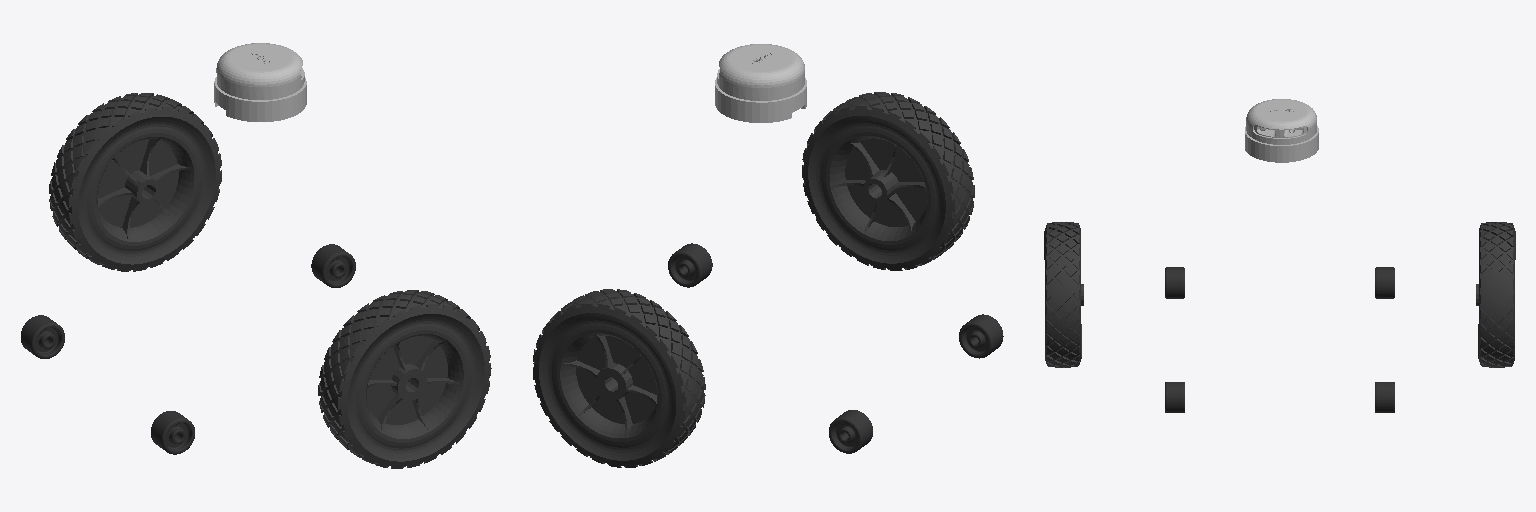
robot.urdf — AMR:
<?xml version="1.0"?>
<robot xmlns:xacro="http://www.ros.org/wiki/xacro" name="AMR">


  <link name="base_footprint">
  </link>

  <joint name="chassis_joint" type="fixed">
    <parent link="base_footprint"/>
    <child link="base_link"/>
    <origin xyz="0 0 0" rpy="0 0 0" />
  </joint>

  <link name="base_link">
    <visual>
      <origin xyz="0 0 0" rpy="0 0 3.1459" />
      <geometry>
        <mesh filename="package://twowheelbot/meshes/base_link.STL" />
      </geometry>
      <material name="">
        <color rgba="0.792156862745098 0.819607843137255 0.933333333333333 1" />
      </material>
    </visual>
    <collision>
      <origin xyz="0 0 0" rpy="0 0 3.1459" />
      <geometry>
        <mesh filename="package://twowheelbot/meshes/base_link.STL" />
      </geometry>
    </collision>
    <inertial>
      <origin xyz="0 0 0" rpy="0 0 3.1459" />
      <mass value="5.65793860989747" />
      <inertia ixx="0.0209088158258865" ixy="-1.21570941586779E-06" ixz="-4.74576464436689E-07" iyy="0.0337922520357315" iyz="-6.19936087950491E-09" izz="0.0530796720169266" />
    </inertial>
  </link>

  <!-- Wheels -->

  <link name="left_wheel">
    <visual>
      <origin xyz="0 0 0" rpy="0 0 0" />
      <geometry>
        <mesh filename="package://twowheelbot/meshes/left_wheel.STL" />
      </geometry>
      <material name="">
        <color rgba="0.294117647058824 0.294117647058824 0.294117647058824 1" />
      </material>
    </visual>
    <collision>
      <origin xyz="0 0 0" rpy="0 0 0" />
      <geometry>
        <mesh filename="package://twowheelbot/meshes/left_wheel.STL" />
      </geometry>
    </collision>
    <inertial>
      <origin xyz="0 0 0" rpy="0 0 0" />
      <mass value="0.408827478747937" />
      <inertia ixx="0.000714801628089416" ixy="1.37054703675277E-13" ixz="-6.32708302254498E-14" iyy="0.000714801629073733" iyz="-1.37617566530445E-13" izz="0.00136123756937642" />
    </inertial>
  </link>

  <joint name="left_wheel_joint" type="continuous">
    <origin xyz="0 0.234 0.0304999999999984" rpy="-1.5729 0 0" />
    <parent link="base_link" />
    <child link="left_wheel" />
    <axis xyz="0 0 1" />
  </joint>
  
  <link name="right_wheel">
    <visual>
      <origin xyz="0 0 0" rpy="0 0 0" />
      <geometry>
        <mesh filename="package://twowheelbot/meshes/right_wheel.STL" />
      </geometry>
      <material name="">
        <color rgba="0.294117647058824 0.294117647058824 0.294117647058824 1" />
      </material>
    </visual>
    <collision>
      <origin xyz="0 0 0"  rpy="0 0 0" />
      <geometry>
        <mesh filename="package://twowheelbot/meshes/right_wheel.STL" />
      </geometry>
    </collision>
    <inertial>
      <origin xyz="0 0 0" rpy="0 0 0" />
      <mass value="0.408827478747941" />
      <inertia ixx="0.000714801628692349" ixy="-4.98728780255981E-13" ixz="-8.55481626564712E-14" iyy="0.000714801628470818" iyz="1.25253999026371E-13" izz="0.00136123756937644" />
    </inertial>
  </link>

  <joint name="right_wheel_joint" type="continuous">
    <origin xyz="0 -0.234 0.0304999999999984" rpy="1.5729 0 0" />
    <parent link="base_link" />
    <child link="right_wheel" />
    <axis xyz="0 0 -1" />
  </joint>

  <!-- Caster Wheels -->

  <link name="rf_caster">
    <visual>
      <origin xyz="0 0 0" rpy="0 0 0" />
      <geometry>
        <mesh filename="package://twowheelbot/meshes/rf_caster.STL" />
      </geometry>
      <material name="">
        <color rgba="0.250980392156863 0.250980392156863 0.250980392156863 1" />
      </material>
    </visual>
    <collision>
      <origin xyz="0 0 0" rpy="0 0 0" />
      <geometry>
        <mesh filename="package://twowheelbot/meshes/rf_caster.STL" />
      </geometry>
    </collision>
    <inertial>
      <origin xyz="0 0 0" rpy="0 0 0" />
      <mass value="0.0131302037781976" />
      <inertia ixx="1.31770325266958E-06" ixy="-5.29431199926978E-23" ixz="2.24993126614424E-22" iyy="1.31770325266958E-06" iyz="-1.18236702448809E-22" izz="1.89555098822308E-06" />
    </inertial>
  </link>

  <joint name="rf_caster_joint" type="fixed">
    <origin xyz="0.121999999999999 -0.107 -0.028" rpy="1.5729 0 0" />
    <parent link="base_link" />
    <child link="rf_caster" />
    <axis xyz="0 0 -1" />
  </joint>

  <link name="lf_caster">
    <visual>
      <origin xyz="0 0 0" rpy="0 0 0" />
      <geometry>
        <mesh filename="package://twowheelbot/meshes/lf_caster.STL" />
      </geometry>
      <material name="">
        <color rgba="0.250980392156863 0.250980392156863 0.250980392156863 1" />
      </material>
    </visual>
    <collision>
      <origin xyz="0 0 0" rpy="0 0 0" />
      <geometry>
        <mesh filename="package://twowheelbot/meshes/lf_caster.STL" />
      </geometry>
    </collision>
    <inertial>
      <origin xyz="0 0 0" rpy="0 0 0" />
      <mass value="0.0131302037781976" />
      <inertia ixx="1.31770325266958E-06" ixy="0" ixz="1.52201232709757E-22" iyy="1.31770325266958E-06" iyz="2.05476734334866E-21" izz="1.89555098822308E-06" />
    </inertial>
  </link>

  <joint name="lf_caster_joint" type="fixed">
    <origin xyz="0.121999999999999 0.107 -0.028" rpy="-1.5729 0 0" />
    <parent link="base_link" />
    <child link="lf_caster" />
    <axis xyz="0 0 1" />
  </joint>

  <link name="rr_caster">
    <visual>
      <origin xyz="0 0 0" rpy="0 0 0" />
      <geometry>
        <mesh filename="package://twowheelbot/meshes/rr_caster.STL" />
      </geometry>
      <material name="">
        <color rgba="0.250980392156863 0.250980392156863 0.250980392156863 1" />
      </material>
    </visual>
    <collision>
      <origin xyz="0 0 0" rpy="0 0 0" />
      <geometry>
        <mesh filename="package://twowheelbot/meshes/rr_caster.STL" />
      </geometry>
    </collision>
    <inertial>
      <origin xyz="0 0 0" rpy="0 0 0" />
      <mass value="0.0131302037781976" />
      <inertia ixx="1.31770325266958E-06" ixy="-9.24232433334024E-37" ixz="-5.29395592033938E-23" iyy="1.31770325266958E-06" iyz="2.04611747395592E-21" izz="1.89555098822309E-06" />
    </inertial>
  </link>

  <joint name="rr_caster_joint" type="fixed">
    <origin xyz="-0.154 -0.107 -0.028" rpy="1.5729 0 0" />
    <parent link="base_link" />
    <child link="rr_caster" />
    <axis xyz="0 0 -1" />
  </joint>

  <link name="lr_caster">
    <visual>
      <origin xyz="0 0 0" rpy="0 0 0" />
      <geometry>
        <mesh filename="package://twowheelbot/meshes/lr_caster.STL" />
      </geometry>
      <material name="">
        <color rgba="0.25098 0.25098 0.25098 1" />
      </material>
    </visual>
    <collision>
      <origin xyz="0 0 0" rpy="0 0 0" />
      <geometry>
        <mesh filename="package://twowheelbot/meshes/lr_caster.STL" />
      </geometry>
    </collision>
    <inertial>
      <origin xyz="0 0 0" rpy="0 0 0" />
      <mass value="0.01313" />
      <inertia ixx="1.3177E-06" ixy="7.5232E-37" ixz="1.125E-22" iyy="1.3177E-06" iyz="2.0589E-21" izz="1.8956E-06" />
    </inertial>
  </link>

  <joint name="lr_caster_joint" type="fixed">
    <origin xyz="-0.154 0.107 -0.028" rpy="-1.5729 0 0" />
    <parent link="base_link" />
    <child link="lr_caster" />
    <axis xyz="0 0 1" />
  </joint>

  <gazebo reference="base_link">
    <material>Gazebo/Blue</material>
  </gazebo>

  <gazebo reference="left_wheel">
    <material>Gazebo/Black</material>
  </gazebo>

  <gazebo reference="right_wheel">
    <material>Gazebo/Black</material>
  </gazebo>

  <gazebo reference="lf_caster">
    <material>Gazebo/Orange</material>
    <mu1 value="0.001"/>
    <mu2 value="0.001"/>
  </gazebo>
  <gazebo reference="lr_caster">
    <material>Gazebo/Orange</material>
    <mu1 value="0.001"/>
    <mu2 value="0.001"/>
  </gazebo>
  <gazebo reference="rf_caster">
    <material>Gazebo/Orange</material>
    <mu1 value="0.001"/>
    <mu2 value="0.001"/>
  </gazebo>
  <gazebo reference="rr_caster">
    <material>Gazebo/Orange</material>
    <mu1 value="0.001"/>
    <mu2 value="0.001"/>
  </gazebo>
  
  <link name="lidar_link">
    <visual>
      <origin xyz="0 0 -0.032" rpy="0 0 0" />
      <geometry>
        <mesh filename="package://twowheelbot/meshes/lidar_link.STL" />
      </geometry>
      <material name="">
        <color rgba="0.75294 0.75294 0.75294 0.4" />
      </material>
    </visual>
    <collision>
      <origin xyz="0 0 -0.032" rpy="0 0 0" />
      <geometry>
        <mesh filename="package://twowheelbot/meshes/lidar_link.STL" />
      </geometry>
    </collision>
    <inertial>
      <origin xyz="0 0 -0.032" rpy="0 0 0" />
      <mass value="0.16538" />
      <inertia ixx="7.519E-05" ixy="-4.8472E-08" ixz="2.886E-08" iyy="7.8865E-05" iyz="-2.1848E-06" izz="0.00010995" />
    </inertial>
  </link>

  <joint name="lidar_link_joint" type="fixed">
    <origin xyz="-0.0063382 0.0016853 0.225" rpy="0 0 1.5164" />   
    <!-- rpy 0 0 -1.5164 -->
    <parent link="base_link" />
    <child link="lidar_link" />
  </joint>

  <gazebo reference="lidar_link">
    <material>Gazebo/Yellow</material>

    <sensor name="laser" type="ray">
        <pose>0 0 0 0 0 0</pose>
        <visualize>false</visualize>
        <update_rate>10</update_rate>
        <ray>
            <scan>
                <horizontal>
                    <samples>360</samples>
                    <!-- <resolution>0.5</resolution> -->
                    <min_angle>-3.14</min_angle>
                    <max_angle>3.14</max_angle>
                </horizontal>
            </scan>
            <range>
                <min>0.3</min>
                <max>12</max>
                <!-- <resoluion>0.05</resoluion> -->
            </range>
            <!-- <noise>
                <type>gaussian</type>
                <mean>0.0</mean>
                <stddev>0.01</stddev>
            </noise> -->
        </ray>
        <plugin name = "laser_controller" filename = "libgazebo_ros_ray_sensor.so">
            <ros>
              <remapping>~/out:=/scan</remapping>
              <!-- <remapping>~/out:={robot_namespace}/scan</remapping> -->
            </ros>
            <output_type>sensor_msgs/LaserScan</output_type>
            <frame_name>lidar_link</frame_name>
        </plugin>
    </sensor>
  </gazebo>



</robot>

--- What the picture shows (computed from the rendered views, not written in the file) ---
The picture shows the robot from 3 angles, left to right: view 1: azimuth 30°, elevation 25°; view 2: azimuth 150°, elevation 25°; view 3: azimuth 270°, elevation 25°; orthographic projection.
Robot: AMR — 9 links, 8 joints (2 continuous, 6 fixed); root link base_footprint; default pose: every joint at zero.
Visible links, largest first — view 1: left_wheel, right_wheel, lidar_link, lf_caster, lr_caster, rr_caster; view 2: right_wheel, left_wheel, lidar_link, rf_caster, lr_caster, rr_caster; view 3: right_wheel, left_wheel, lidar_link, rr_caster, lr_caster, rf_caster, lf_caster.
Boxes of the visible links, left/top/right/bottom form: left_wheel: left=49, top=93, right=221, bottom=271; right_wheel: left=318, top=290, right=491, bottom=468; lidar_link: left=214, top=43, right=306, bottom=121; lf_caster: left=311, top=244, right=355, bottom=287; lr_caster: left=21, top=315, right=64, bottom=358; rr_caster: left=151, top=411, right=194, bottom=454; right_wheel: left=802, top=92, right=974, bottom=270; left_wheel: left=533, top=289, right=705, bottom=467; lidar_link: left=715, top=44, right=806, bottom=122; rf_caster: left=668, top=243, right=712, bottom=287; lr_caster: left=829, top=410, right=872, bottom=453; rr_caster: left=959, top=314, right=1003, bottom=358; right_wheel: left=1044, top=222, right=1083, bottom=367; left_wheel: left=1476, top=222, right=1515, bottom=367; lidar_link: left=1245, top=99, right=1318, bottom=162; rr_caster: left=1165, top=267, right=1184, bottom=298; lr_caster: left=1375, top=267, right=1394, bottom=298; rf_caster: left=1165, top=382, right=1184, bottom=412; lf_caster: left=1375, top=382, right=1394, bottom=412.
Bounding box of the posed robot: 0.308 × 0.4803 × 0.2781 m (x, y, z).
Meshes: 8 distinct files referenced, 7 mesh visuals loaded (7 binary STL); not drawn: 1 (reference not matched to a file when rendering).
